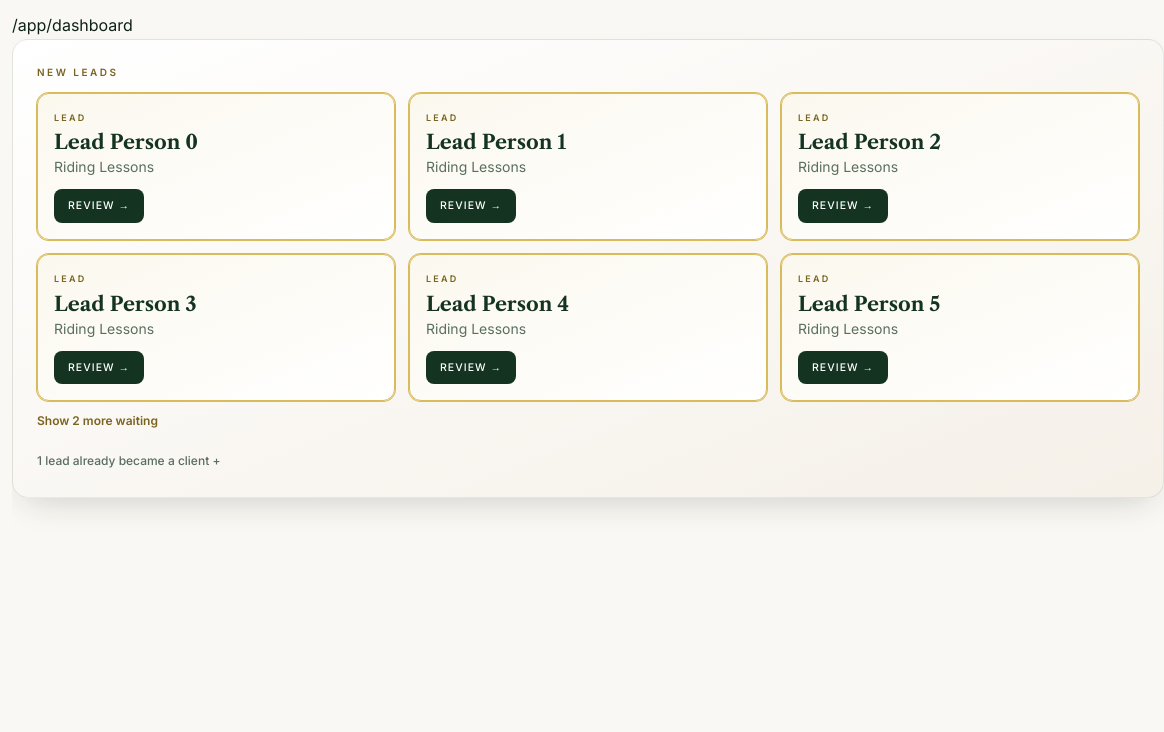
LEADCLEAN — converted leads are marked up, not vanished › shows what happened and links to the record they became
The width and height of the screenshot is (1164, 732).
What coordinates should you click on to do the following:
click the button "1 lead already became a client +"
I would click on:
 (129, 461)
Its box is [37,451,220,471].
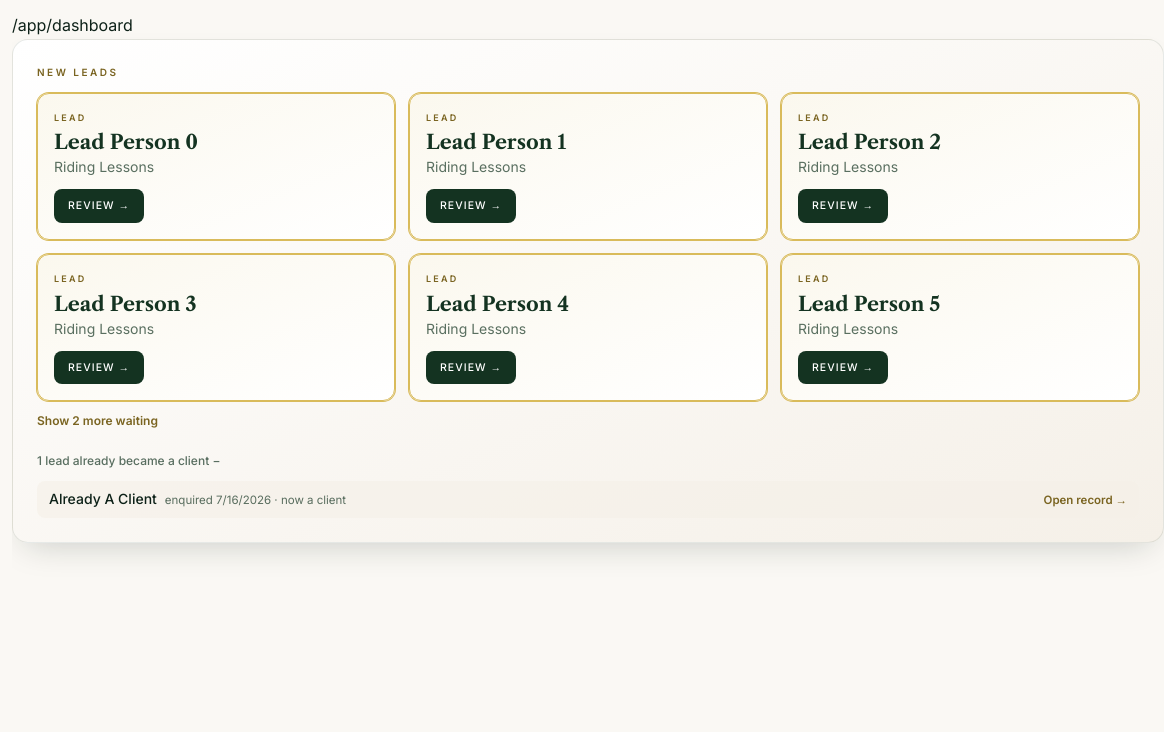
Expected: the text "Already A Client" is shown, [49,489,157,509]
Expected: the text "enquired 7/16/2026 · now a client" is shown, [165,491,346,510]
What coordinates should you click on to do the following:
click the button "Open record →"
I would click on:
 (1085, 501)
Its box is [1044,491,1127,510].
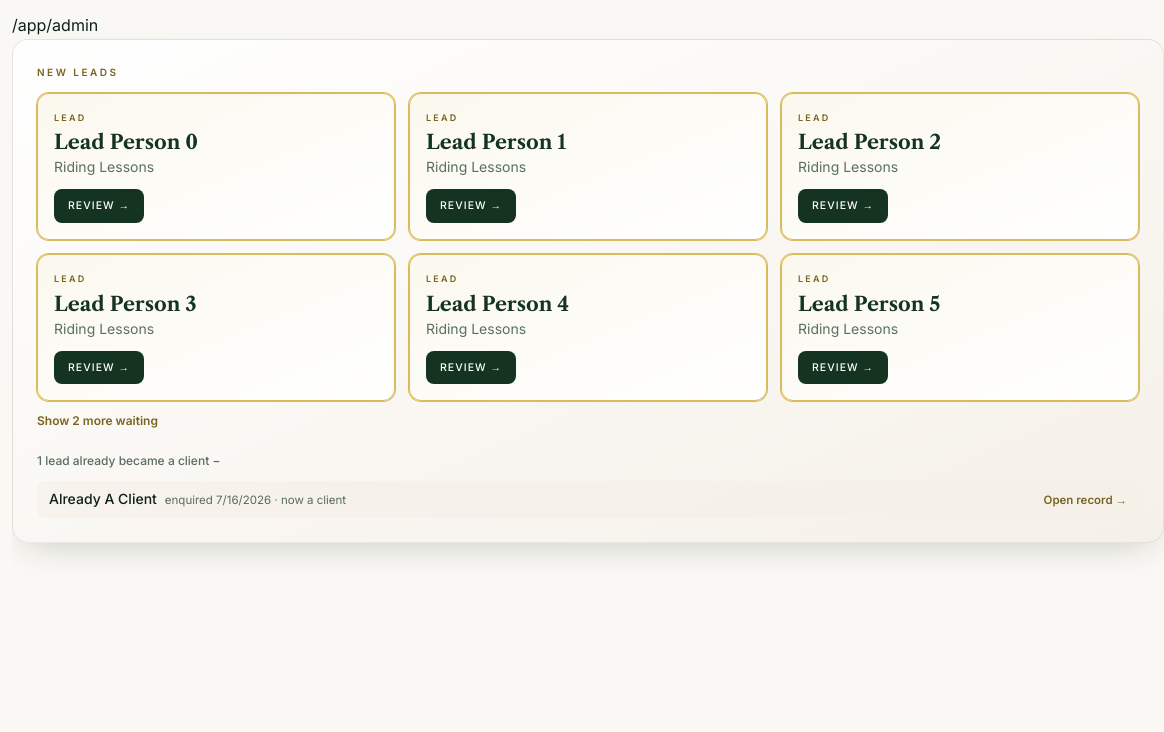
Expected: the text with test id "route" reads "/app/admin", [12,15,98,35]
